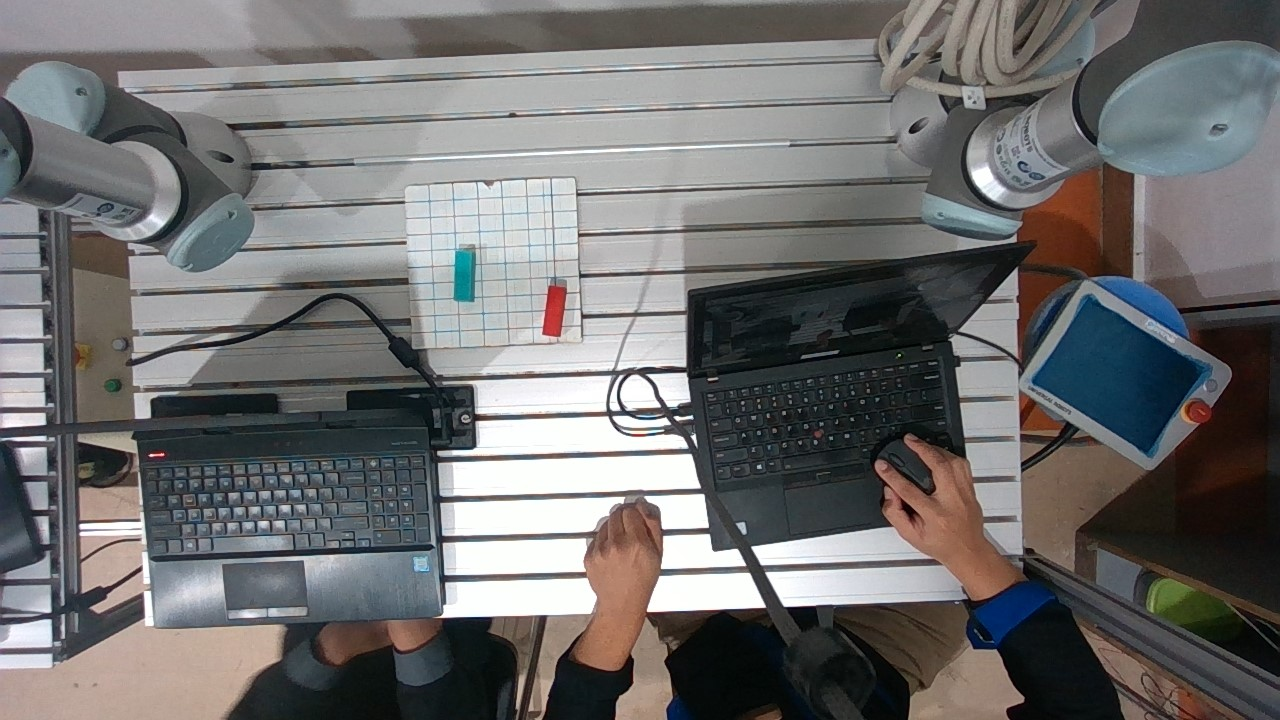box: (448, 244, 482, 305), (538, 277, 567, 346)
